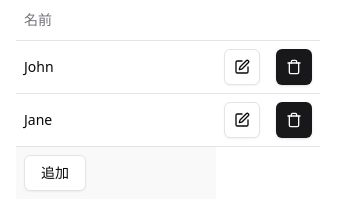
Test: ClientPurchasersTable › 新しい購入者が追加されるとAPIリクエストが正しく送信される
Click the button "追加".
click(55, 172)  # box [24,154,86,190]
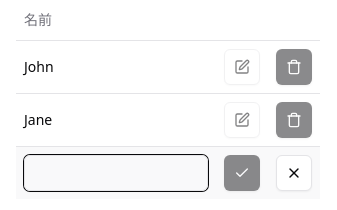
Type "Charlie" into the field.
click(116, 172); type("Charlie")  # box [24,154,208,190]
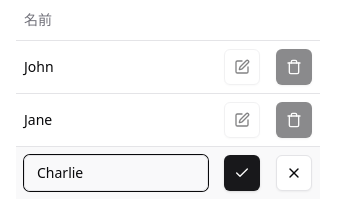
Click the button named "Save".
click(242, 172)  # box [224,154,260,190]
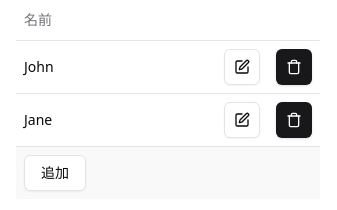
Result: the field is gone
